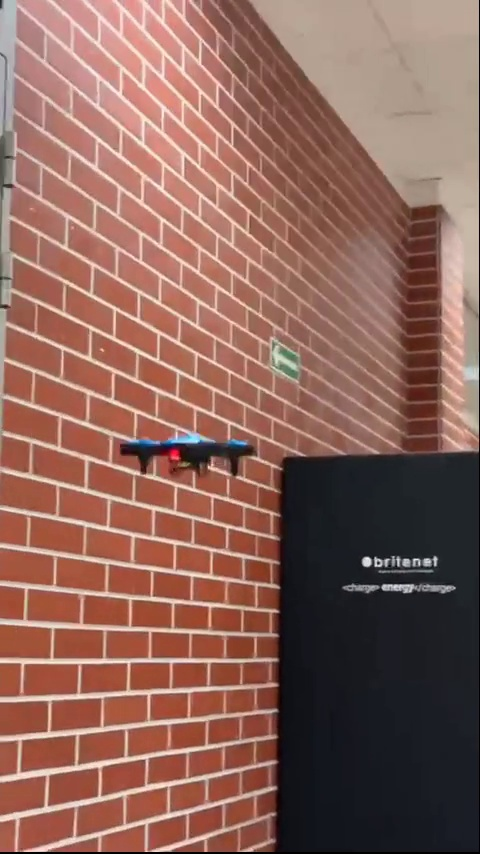drone: (114, 434, 254, 483)
